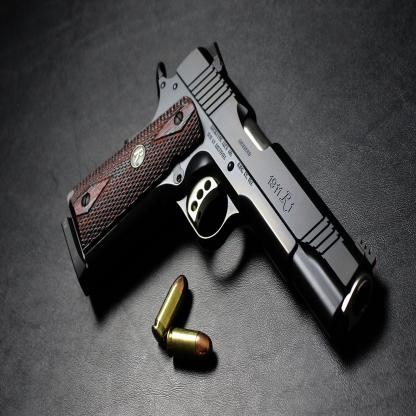handgun: (62, 42, 377, 329)
